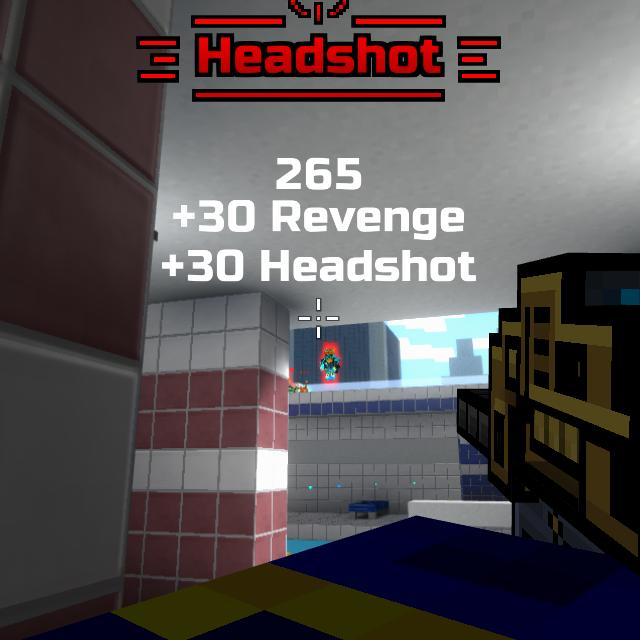Enemy: (319, 347, 340, 379)
